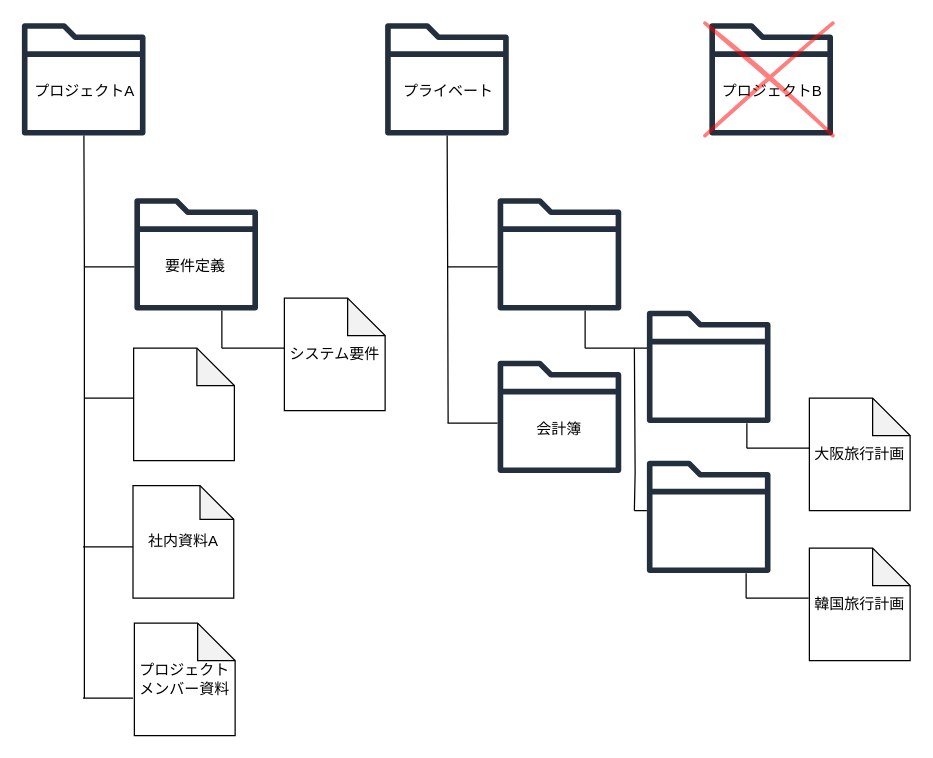
Some shapes in this 933 by 758 pixel diagram are drawn without their labels. Here are the shapes that lost their labels. From the top down, the centre of each, then its label:
At [559,254]: "旅行".
At [708,366]: "国内".
At [183,404]: "プロジェクト概要".
At [708,516]: "海外".
